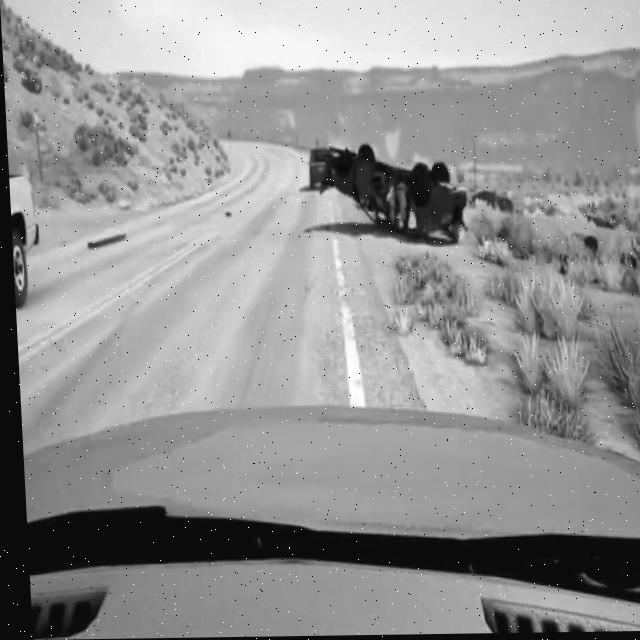single accident: (291, 120, 484, 257)
